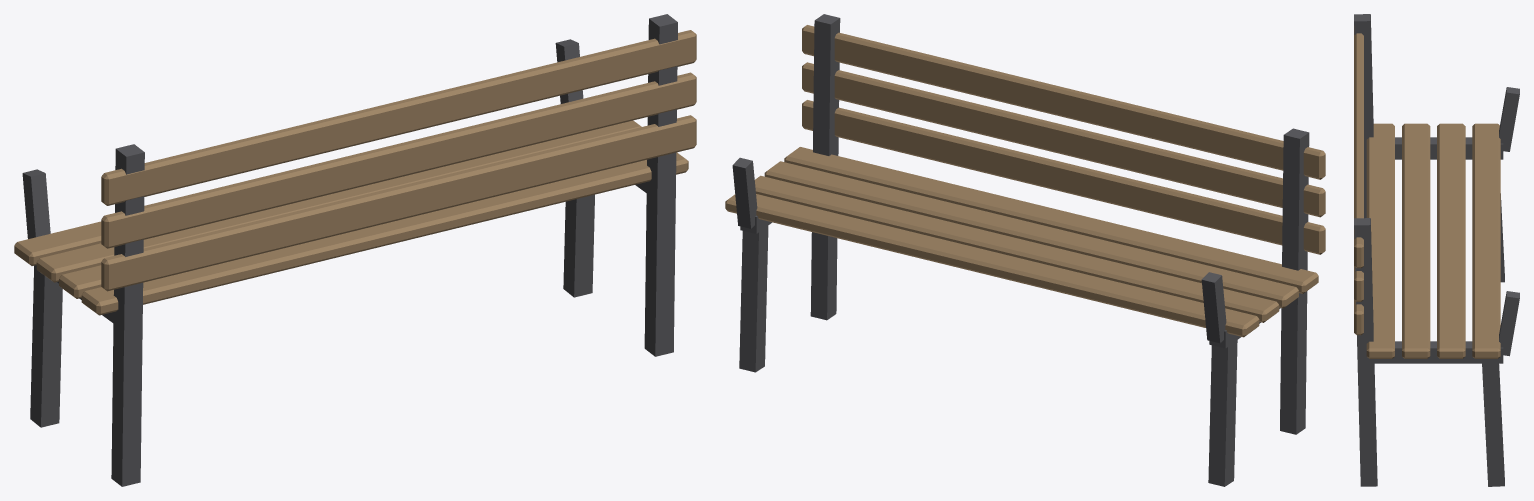
The model's file is v_bench.glb.
3 renders of one model, left to right at view 1: azimuth 30°, elevation 25°; view 2: azimuth 150°, elevation 25°; view 3: azimuth 270°, elevation 25°, orthographic. The views are drawn at different scales.
Visible parts, largest first — view 1: Bench; view 2: Bench; view 3: Bench.
Part boxes in pixels (bbox=[...]): Bench: bbox=[14, 14, 696, 486]; Bench: bbox=[725, 14, 1325, 486]; Bench: bbox=[1354, 14, 1519, 486].
Size of what is drawn, in the model's own units: 1.6 by 0.8617 by 0.4948.
